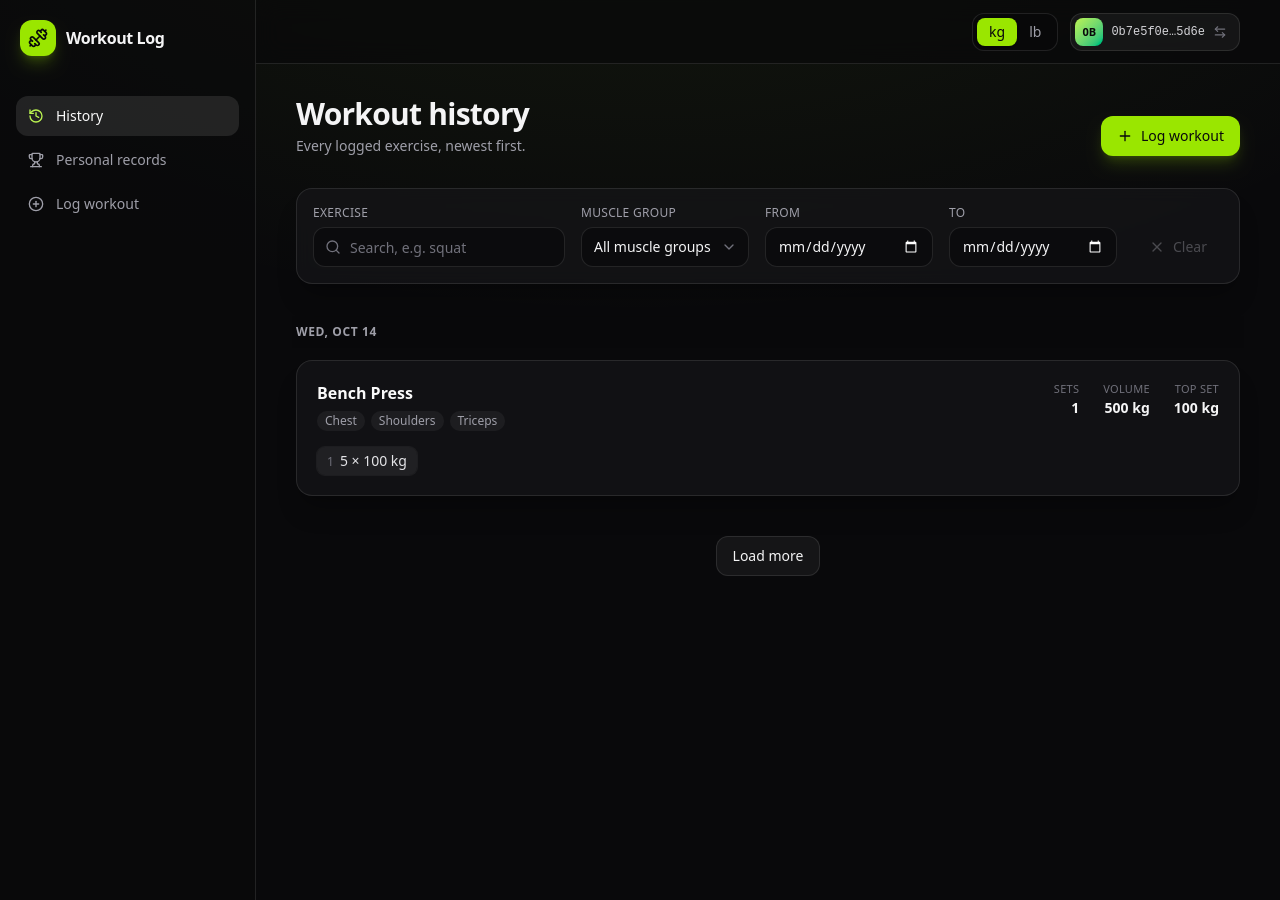
Test: HistoryPage › loads the next page with the cursor
Check: the heading "Bench Press" is shown, box [317,382,413,404]
Click the button "Load more" at (768, 556), box [716,536,820,576]
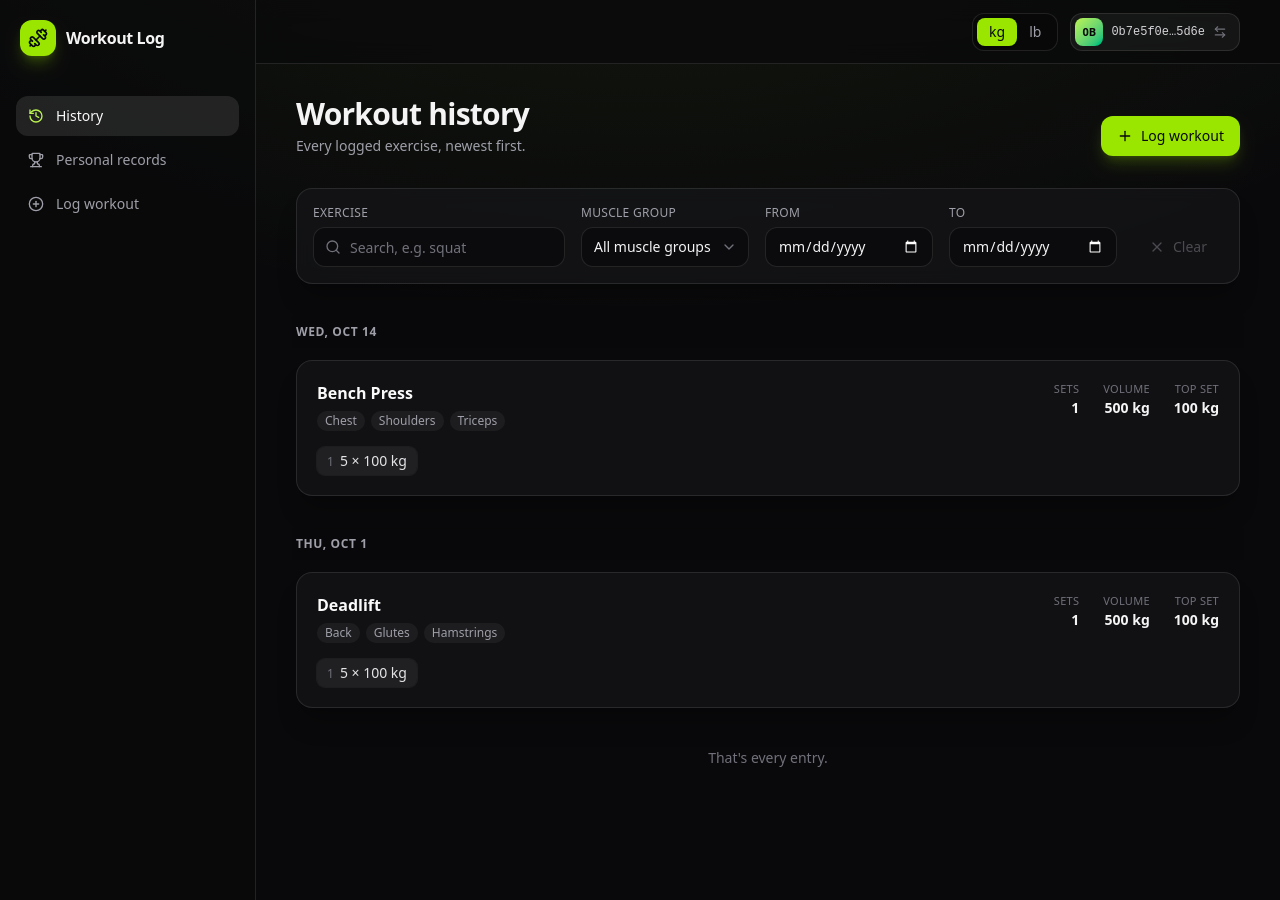
Check: the heading "Bench Press" is shown, box [317,382,413,404]
Check: the heading "Deadlift" is shown, box [317,594,381,616]
Check: the button "Load more" is gone
